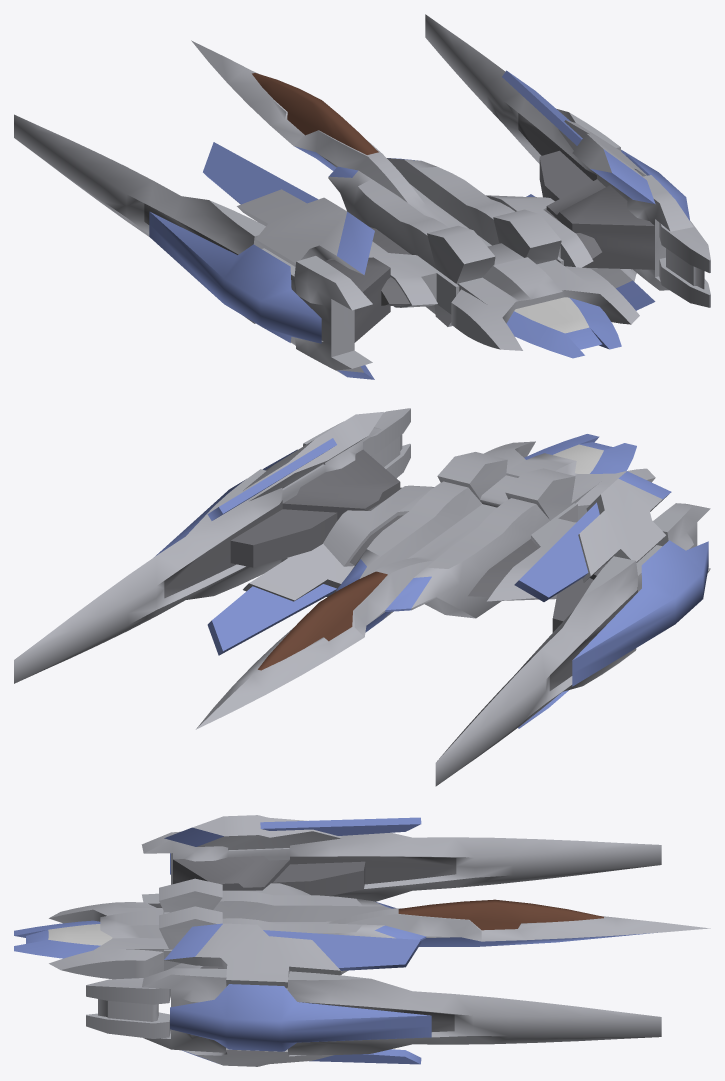
The model's file is 0 RAISER.obj.
The picture shows the model from 3 angles, top to bottom: view 1: azimuth 30°, elevation 25°; view 2: azimuth 150°, elevation 25°; view 3: azimuth 270°, elevation 25°; orthographic projection. The views are drawn at different scales.
Visible parts, largest first — view 1: obj1; view 2: obj1; view 3: obj1.
Part boxes in pixels (left/top/right/bottom): obj1: left=14, top=14, right=710, bottom=379; obj1: left=14, top=408, right=710, bottom=786; obj1: left=14, top=815, right=710, bottom=1066.
Bounding box in the file's own units: 312 × 114 × 505.
